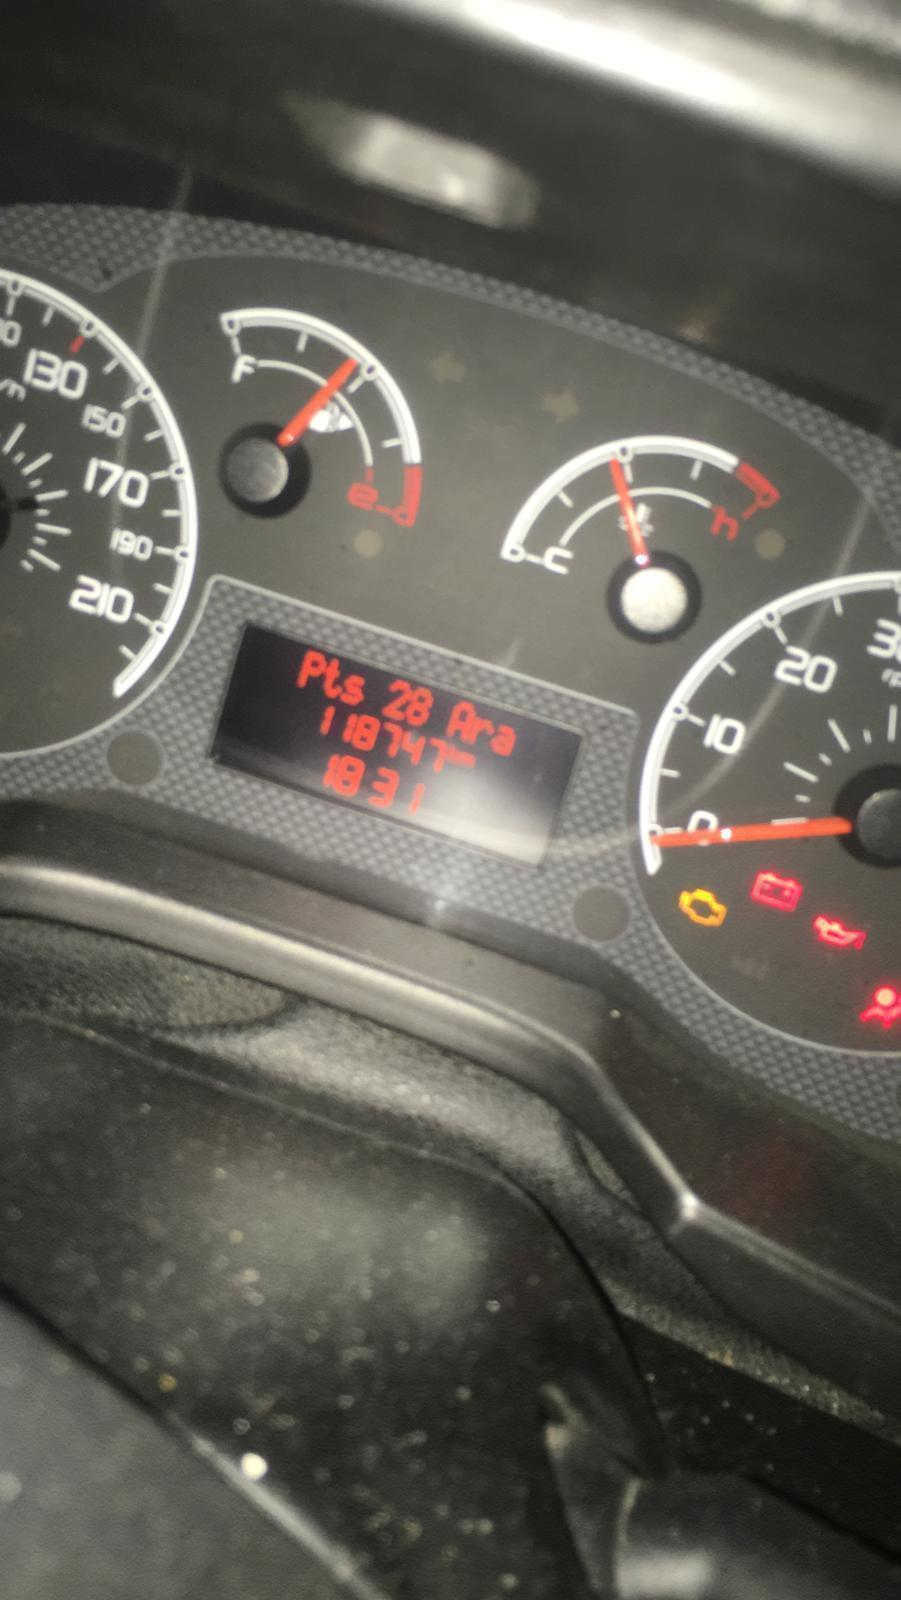1: (320, 749, 340, 790), (407, 779, 427, 816), (319, 702, 333, 741), (343, 710, 356, 743)
2: (382, 676, 409, 720)
3: (368, 764, 399, 808)
4: (403, 729, 426, 764)
7: (431, 734, 449, 773), (383, 719, 402, 756)
8: (340, 753, 365, 796), (410, 684, 434, 726), (355, 711, 380, 749)
X: (296, 645, 325, 688), (444, 699, 471, 740), (342, 671, 366, 705), (493, 721, 516, 756), (325, 657, 342, 701), (471, 714, 491, 749), (447, 742, 461, 765), (460, 749, 475, 771)
odometer: (202, 616, 593, 874)
